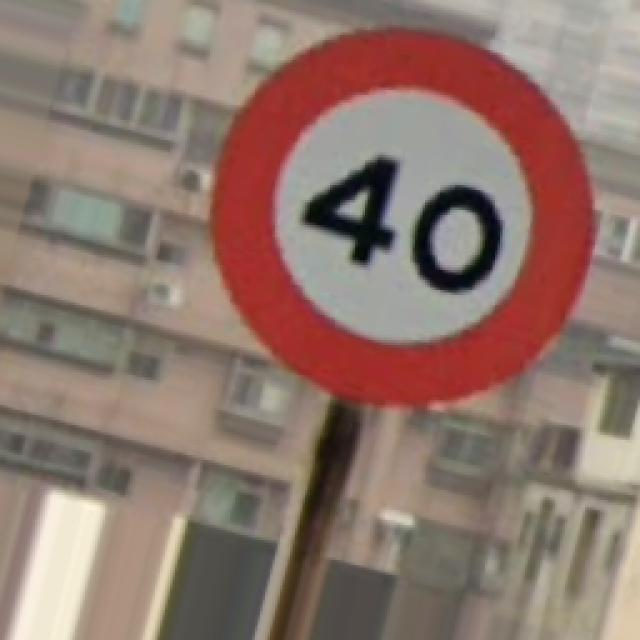Speed Limit -40-: (215, 30, 592, 400)
